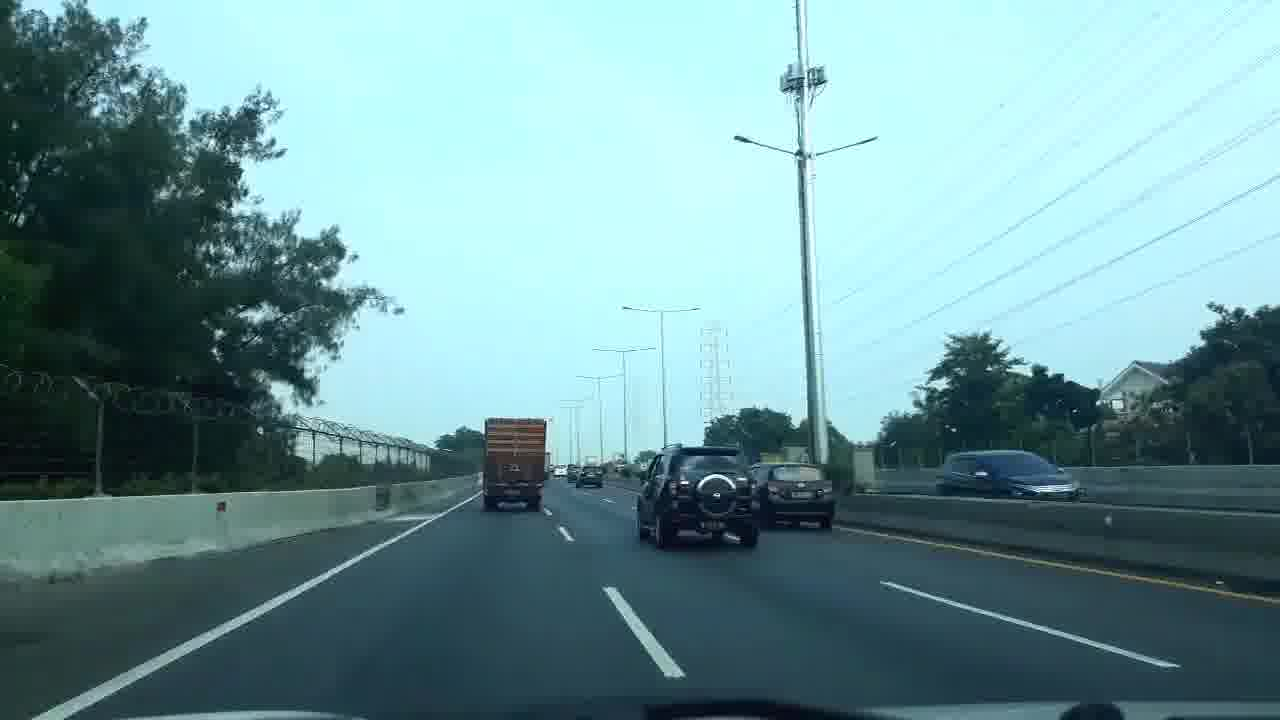plate_positive: (700, 521, 726, 529), (792, 492, 813, 498)
